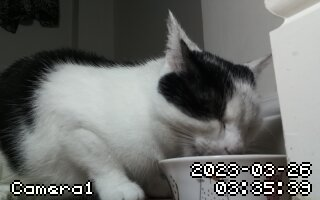bad: (4, 19, 275, 199)
